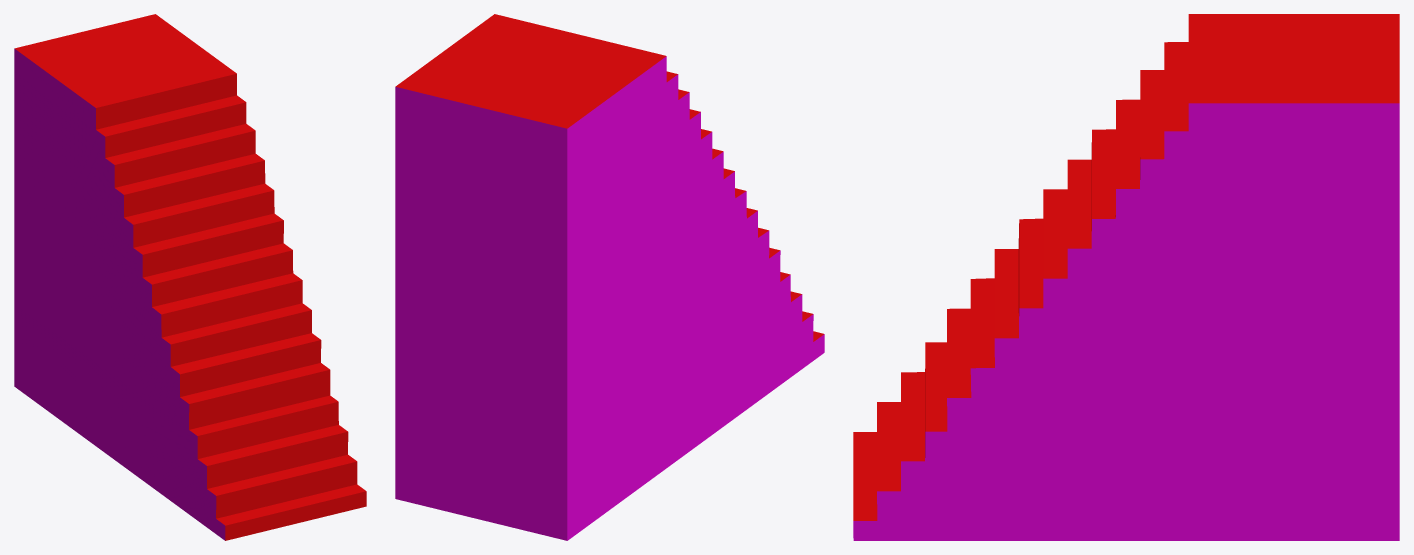
Rendered from Stairs.fbx.
3 renders of one model, left to right at view 1: azimuth 30°, elevation 25°; view 2: azimuth 150°, elevation 25°; view 3: azimuth 270°, elevation 25°, orthographic. The views are drawn at different scales.
Visible parts, largest first — view 1: Frontstairs, Frontstairs.001; view 2: Frontstairs.001, Frontstairs; view 3: Frontstairs.001, Frontstairs.
Part boxes in pixels (bbox=[...]): Frontstairs: bbox=[14, 14, 366, 540]; Frontstairs.001: bbox=[14, 48, 225, 540]; Frontstairs.001: bbox=[395, 56, 824, 540]; Frontstairs: bbox=[395, 14, 823, 341]; Frontstairs.001: bbox=[853, 103, 1399, 540]; Frontstairs: bbox=[853, 14, 1399, 520].
Size of the model in its own units: 175 by 400 by 452.
